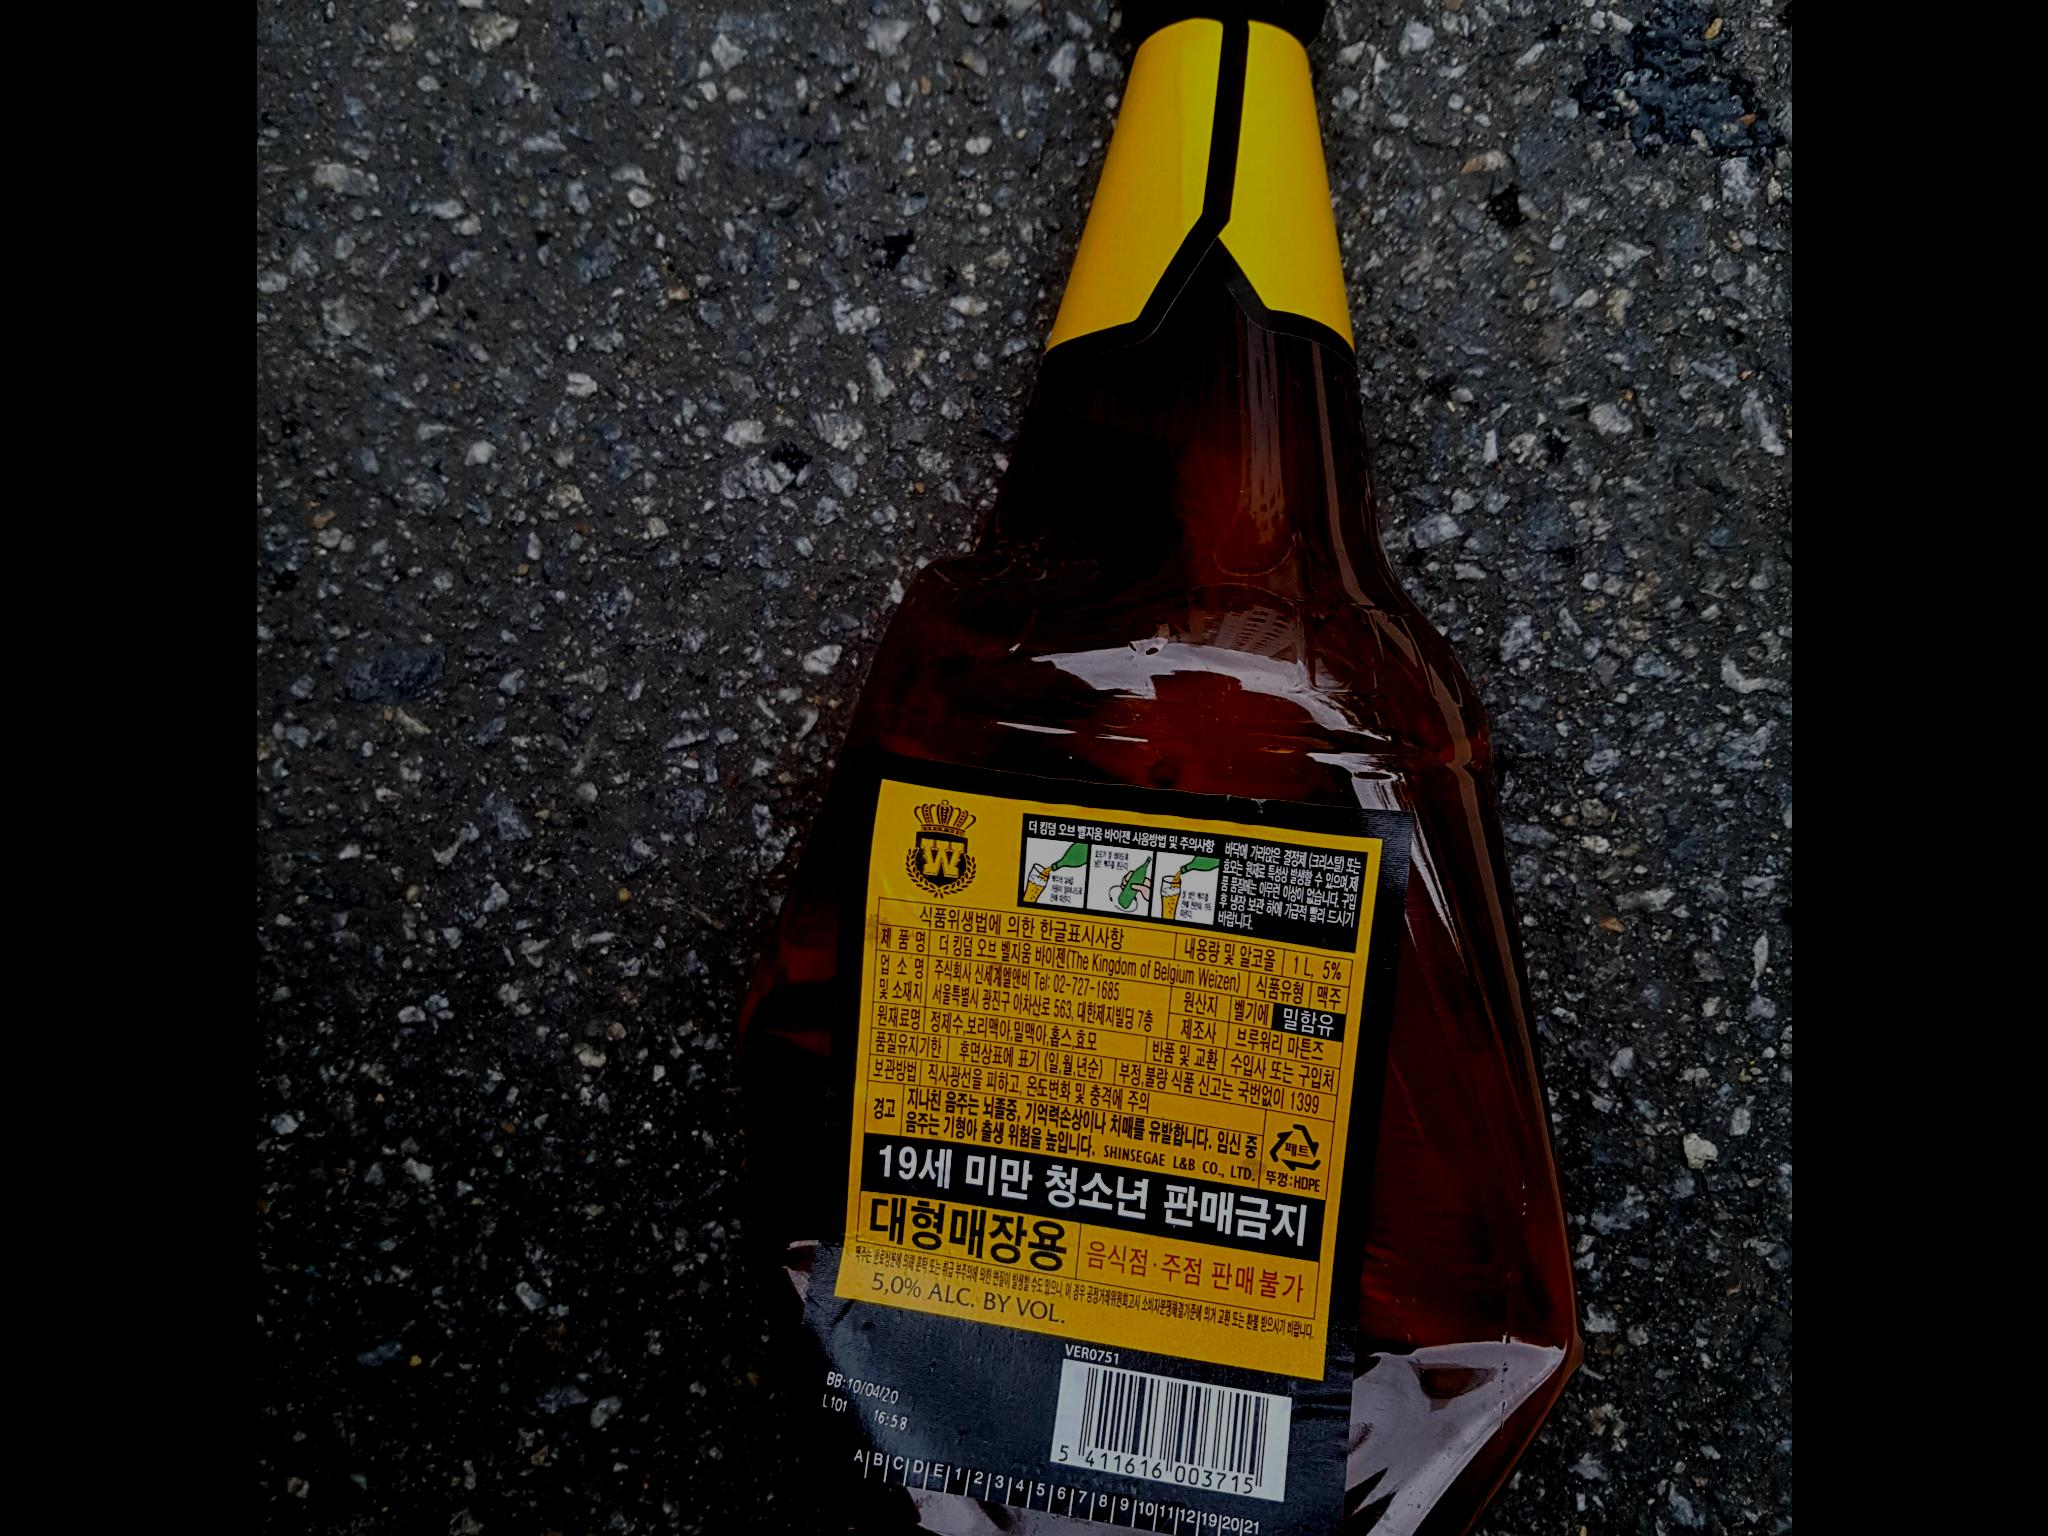bottle: (714, 0, 1596, 1536)
